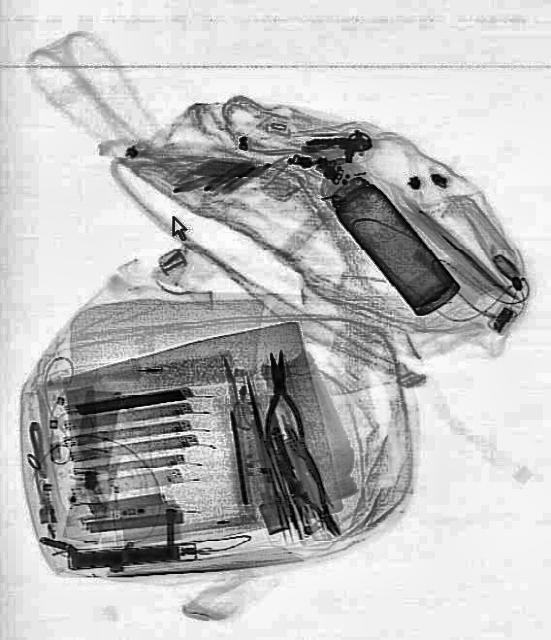Pliers: (262, 426, 354, 546), (255, 346, 305, 452)
